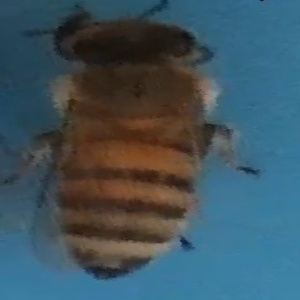bee: (13, 5, 267, 282)
